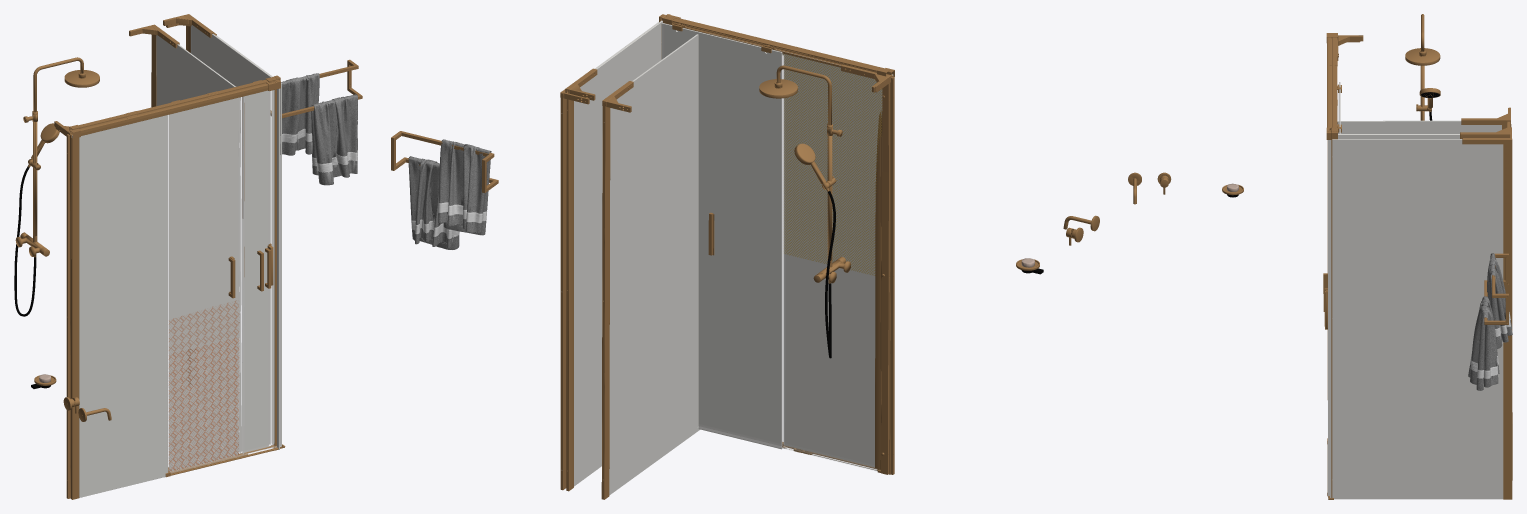
Rendered from PAROIS_compressed.glb.
3 renders of one model, left to right at view 1: azimuth 30°, elevation 25°; view 2: azimuth 150°, elevation 25°; view 3: azimuth 270°, elevation 25°, orthographic. The views are drawn at different scales.
Parts seen in each view (by area): view 1: PLCLS 1200x2000 + PLTWU 900x2000, Moving door (×2), PLWRU 1000X2000, PLPIV 1000x2000 + PLTWU 900x2000, Serigraphie Geometrie arondie, towel.002, PLPIF 1200X2000, Serigraphie Chevrons arondie, Shower system, towel.001, Door, PLPIF 1200X2000 + PLTWU 900x2000 (+5 smaller); view 2: PLPIV 1000x2000 + PLTWU 900x2000, MovingDoor, Moving door.001, PLCLS 1200x2000 + PLTWU 900x2000, PLTWU 1000x2000, Serigraphie Chevrons carrée, towel.001, Shower system, PLPIF 1200X2000 + PLTWU 900x2000, PLPIV 1000x2000, towel.002, PLCLS 1200x2000 (+2 smaller); view 3: PLPIF 1200X2000 + PLTWU 900x2000, PLCLS 1200x2000 + PLTWU 900x2000, PLPIV 1000x2000 + PLTWU 900x2000, towel.002, Shower system, towel.001, PLPIF 1200X2000, PLCLS 1200x2000, Towel rack.
Boxes of the visible parts, x1,y1,x2,y2 form: PLCLS 1200x2000 + PLTWU 900x2000: (69, 14, 280, 499); Moving door (×2): (168, 90, 270, 453); PLWRU 1000X2000: (55, 122, 238, 497); PLPIV 1000x2000 + PLTWU 900x2000: (70, 24, 246, 498); Serigraphie Geometrie arondie: (168, 300, 239, 471); towel.002: (311, 94, 357, 185); PLPIF 1200X2000: (55, 89, 276, 498); Serigraphie Chevrons arondie: (169, 302, 239, 470); Shower system: (14, 57, 99, 316); towel.001: (280, 73, 319, 155); Door: (265, 90, 274, 445); PLPIF 1200X2000 + PLTWU 900x2000: (71, 23, 285, 473); PLPIV 1000x2000 + PLTWU 900x2000: (601, 34, 893, 499); MovingDoor: (662, 22, 782, 449); Moving door.001: (708, 111, 881, 468); PLCLS 1200x2000 + PLTWU 900x2000: (565, 14, 894, 491); PLTWU 1000x2000: (709, 33, 890, 473); Serigraphie Chevrons carrée: (766, 52, 882, 470); towel.001: (438, 139, 491, 235); Shower system: (759, 65, 850, 358); PLPIF 1200X2000 + PLTWU 900x2000: (560, 22, 890, 490); PLPIV 1000x2000: (784, 95, 888, 474); towel.002: (408, 156, 459, 249); PLCLS 1200x2000: (659, 14, 889, 447); PLPIF 1200X2000 + PLTWU 900x2000: (1328, 41, 1512, 499); PLCLS 1200x2000 + PLTWU 900x2000: (1326, 33, 1510, 497); PLPIV 1000x2000 + PLTWU 900x2000: (1337, 107, 1512, 480); towel.002: (1468, 296, 1499, 390); Shower system: (1405, 14, 1440, 120); towel.001: (1487, 253, 1512, 348); PLPIF 1200X2000: (1331, 140, 1332, 497); PLCLS 1200x2000: (1331, 33, 1337, 139); Towel rack: (1484, 253, 1508, 324).
Bounding box in the file's own units: 2.63 × 2.18 × 1.94.
Materials: 13 (5 with a texture image).
